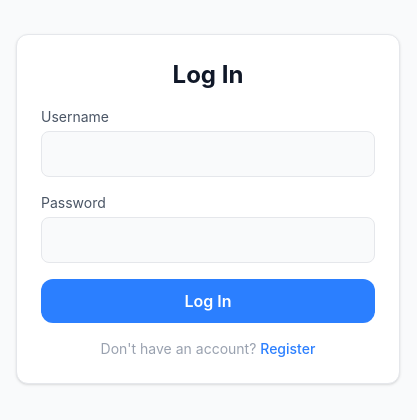
Scenario: Login › catches empty fields with the Zod backstop if native validation is bypassed
The image size is (417, 420).
Click the button "Log In": (208, 301) [41,279,375,323]
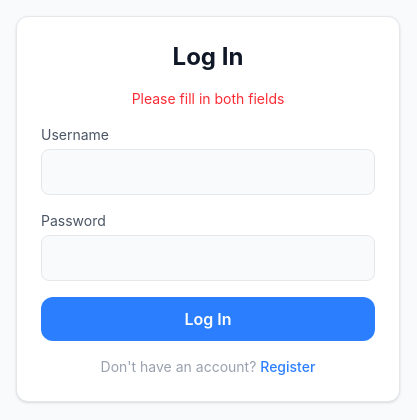
Expected: the text "Please fill in both fields" is shown, [132,90,284,107]
